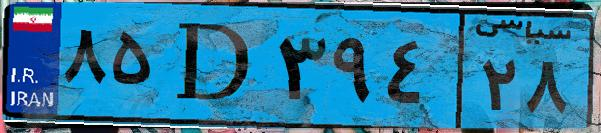2: (475, 38, 525, 113)
3: (270, 28, 330, 110)
4: (385, 28, 445, 110)
5: (110, 28, 158, 98)
8: (57, 26, 110, 100), (525, 38, 570, 115)
9: (330, 28, 385, 110)
D: (158, 12, 270, 120)
